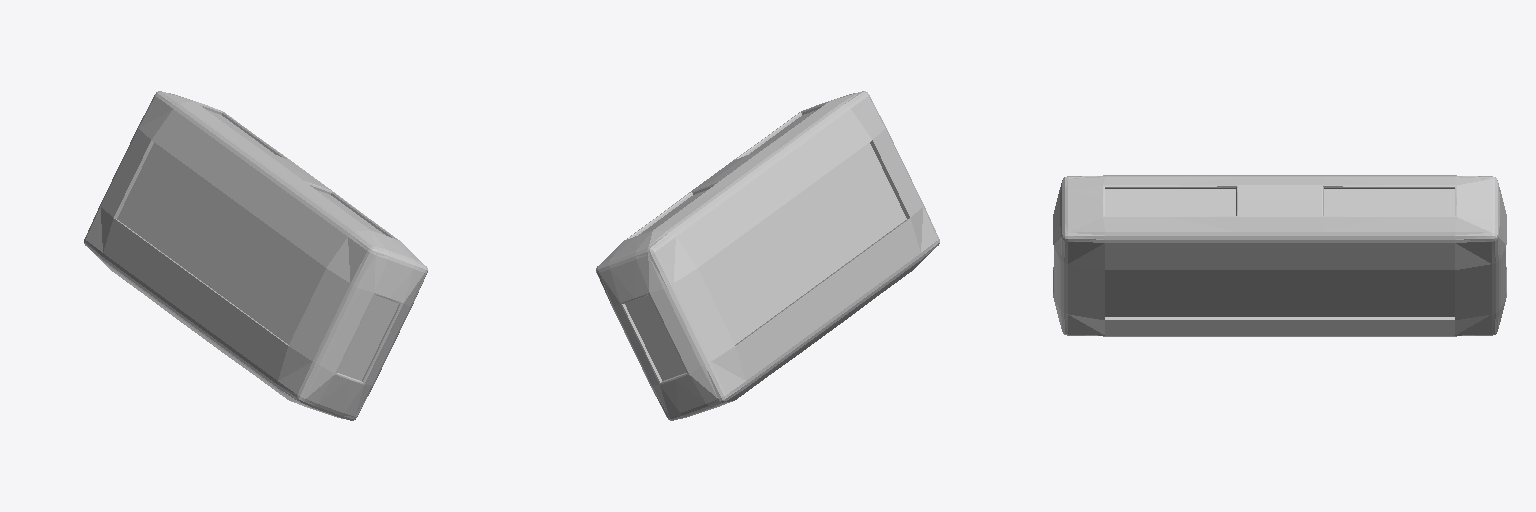
Rendered from Case180.obj.
3 views of the same model, side by side, from view 1: azimuth 30°, elevation 25°; view 2: azimuth 150°, elevation 25°; view 3: azimuth 270°, elevation 25° (orthographic).
Parts seen in each view (by area): view 1: Cube.041_Cube.040; view 2: Cube.041_Cube.040; view 3: Cube.041_Cube.040.
Part boxes in pixels (x1,y1,x2,y2): Cube.041_Cube.040: (84, 91, 427, 420); Cube.041_Cube.040: (596, 91, 939, 420); Cube.041_Cube.040: (1053, 175, 1506, 336).
Bounding box in the file's own units: 3.49 × 4.32 × 10.38.